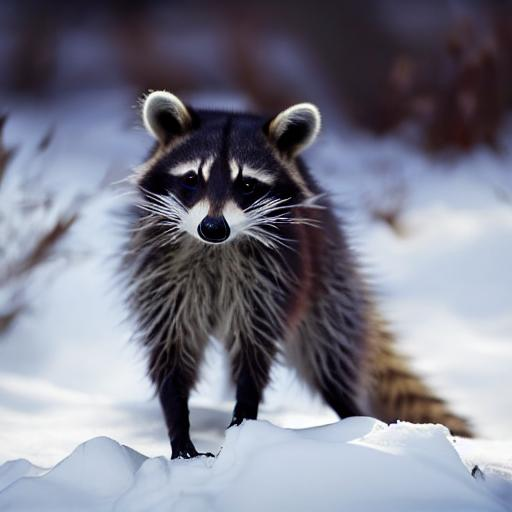raccoon: (106, 78, 480, 438)
